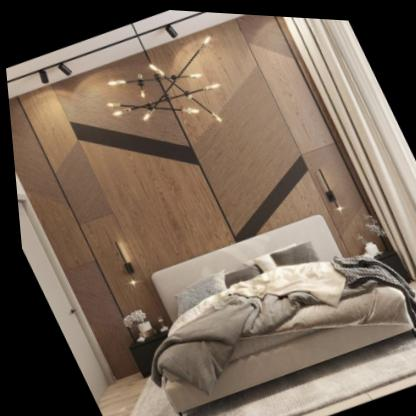Bed: (99, 182, 416, 416)
Curtains: (269, 13, 416, 277)
Wall Panel: (0, 0, 389, 343)
